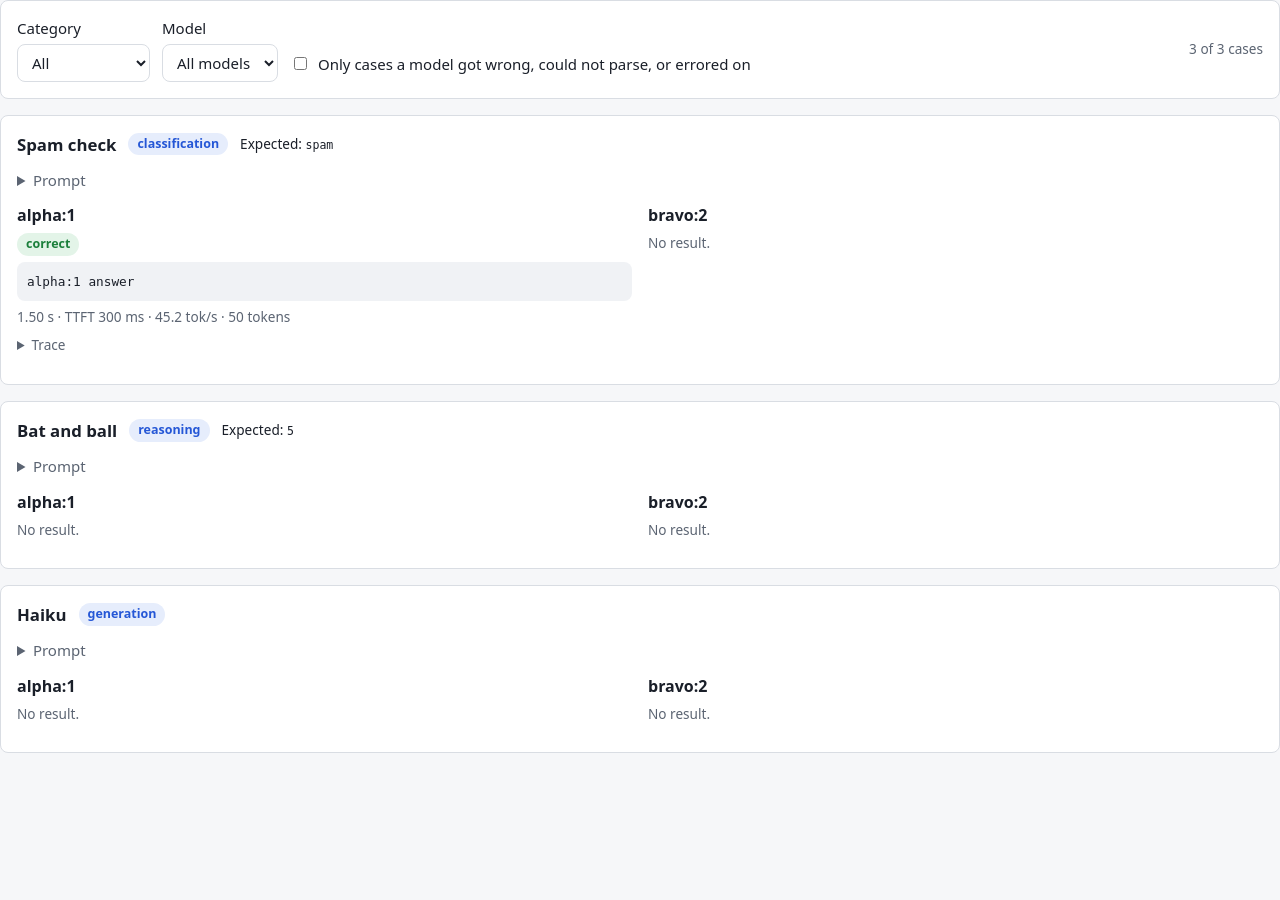
add-otel-tracing: span tree › shows the span tree for a result that has a trace_id
The image size is (1280, 900).
Click the heading "Trace": x=48, y=345 x1=31 y1=335 x2=65 y2=354
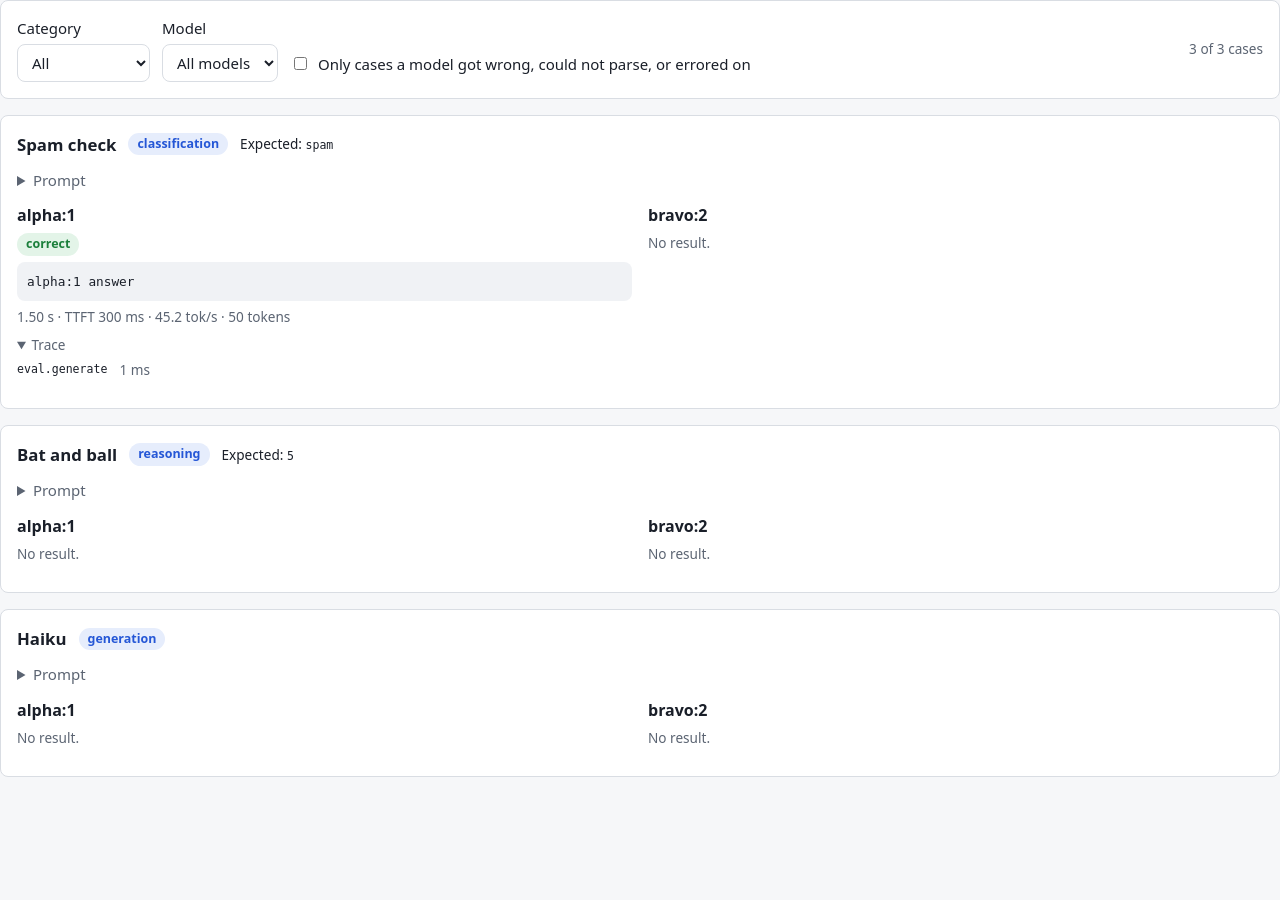
Check: the text "eval.generate" is shown, box x1=17 y1=361 x2=107 y2=379
